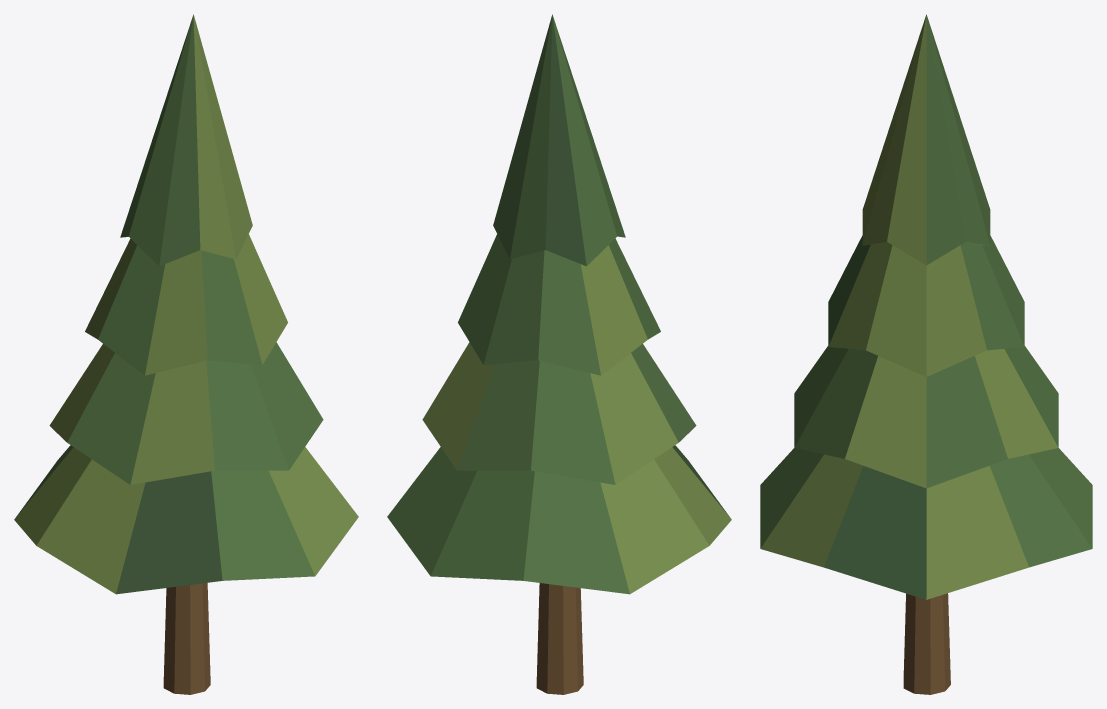
File: BP_Pine_Medium.fbx
The picture shows the model from 3 angles, left to right: view 1: azimuth 30°, elevation 25°; view 2: azimuth 150°, elevation 25°; view 3: azimuth 270°, elevation 25°; orthographic projection.
Parts seen in each view (by area): view 1: BP_Pine_Medium; view 2: BP_Pine_Medium; view 3: BP_Pine_Medium.
Boxes of the visible parts, x1=… form: BP_Pine_Medium: x1=14, y1=14, x2=358, y2=694; BP_Pine_Medium: x1=387, y1=14, x2=731, y2=694; BP_Pine_Medium: x1=760, y1=14, x2=1092, y2=694.
Bounding box in the file's own units: 190 × 405 × 181.
